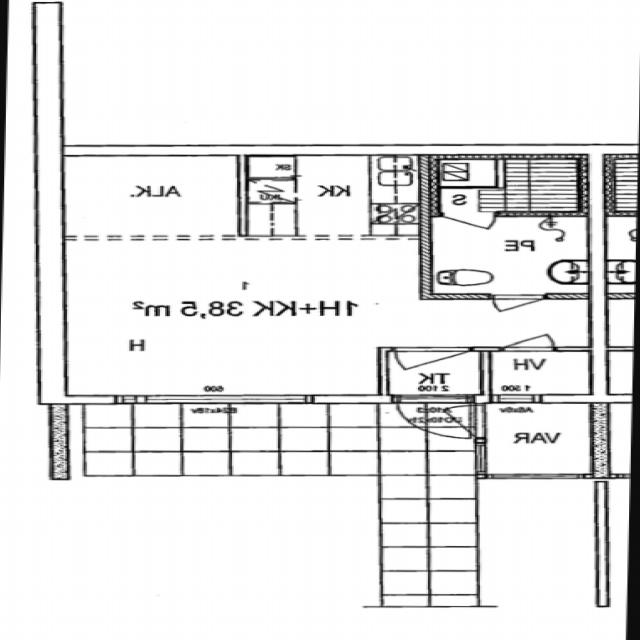door: (399, 394, 472, 438), (395, 346, 471, 387), (412, 406, 486, 436), (490, 293, 546, 326), (443, 211, 496, 243), (502, 320, 555, 351)
